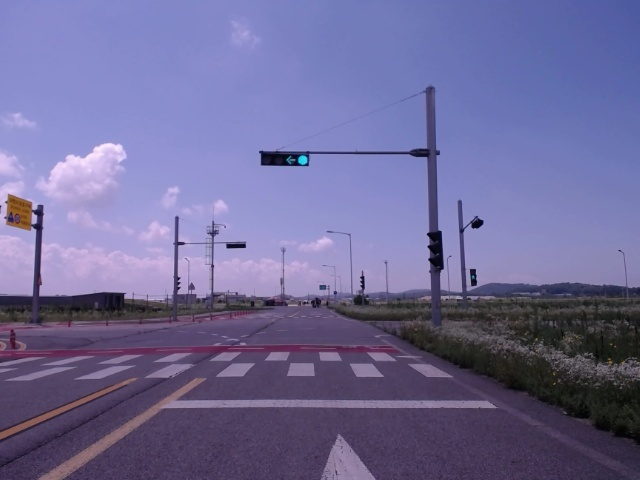all_green_4: (264, 150, 309, 167)
